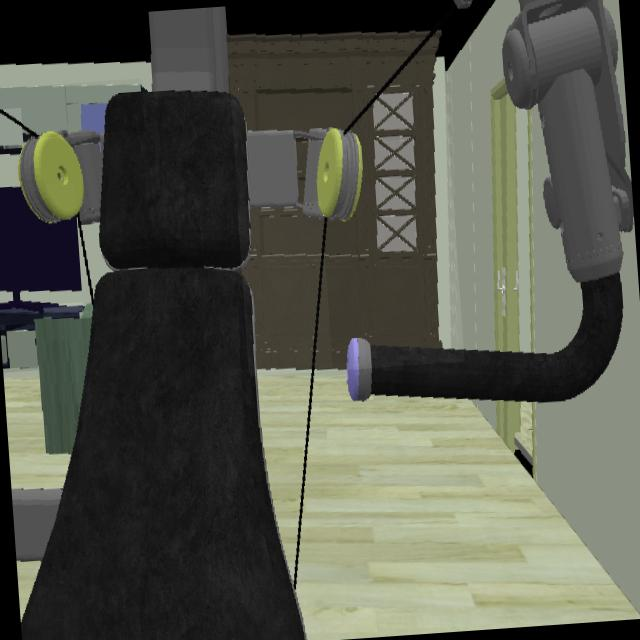cabinet: (228, 31, 441, 369), (241, 206, 322, 368), (0, 84, 142, 135), (0, 324, 38, 371), (0, 117, 22, 147), (43, 305, 83, 317)
monitor: (0, 188, 81, 313)
